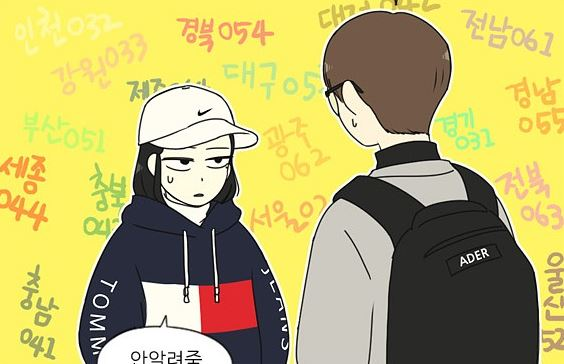hat: (128, 84, 269, 150)
